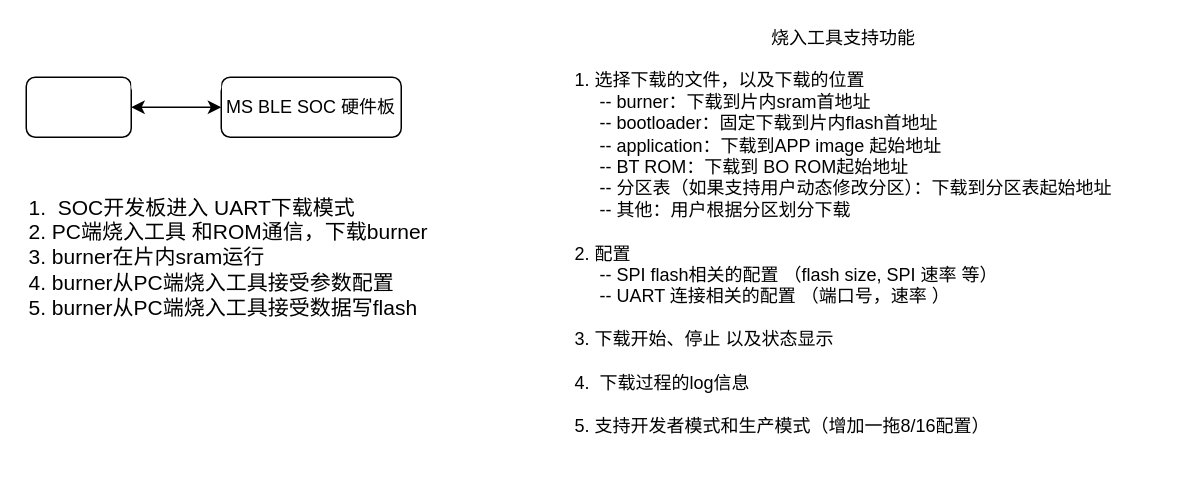
Image size: 1193x483. Some labels were removed from this diagram. Here are the shapes that lost their labels. From the top down, the centre of each, then its label:
At point (175, 77): "串口".
At point (78, 106): "PC".
